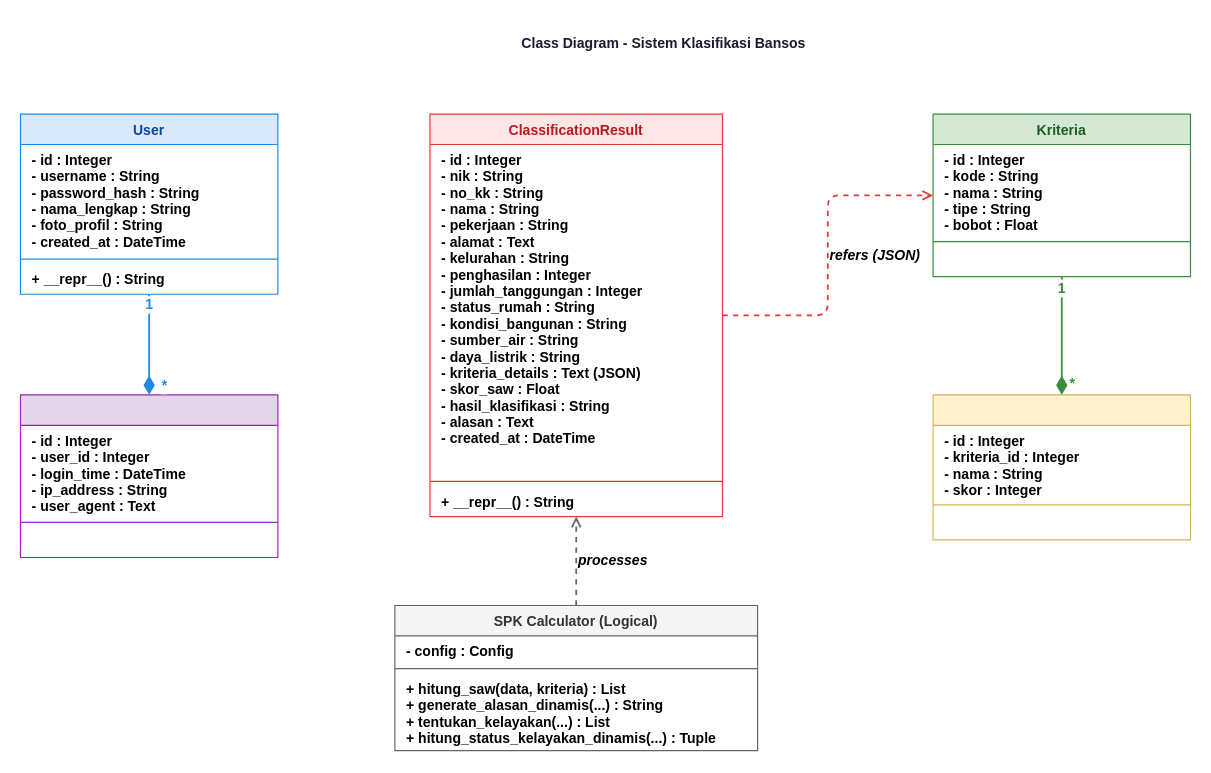
This 1211x773 diagram has some shape labels left out. The box of each missing label's shape, as (x1, y1, x2, y2) in pixels:
LoginHistory: (19, 394, 278, 558)
SubKriteria: (932, 394, 1190, 540)
